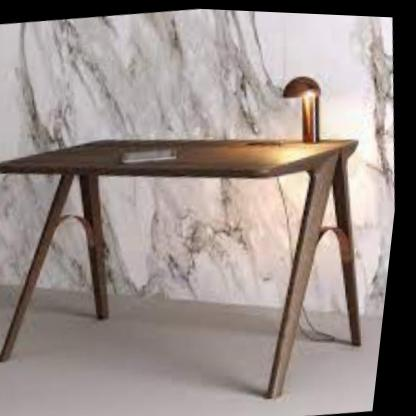Table: (0, 87, 408, 416)
